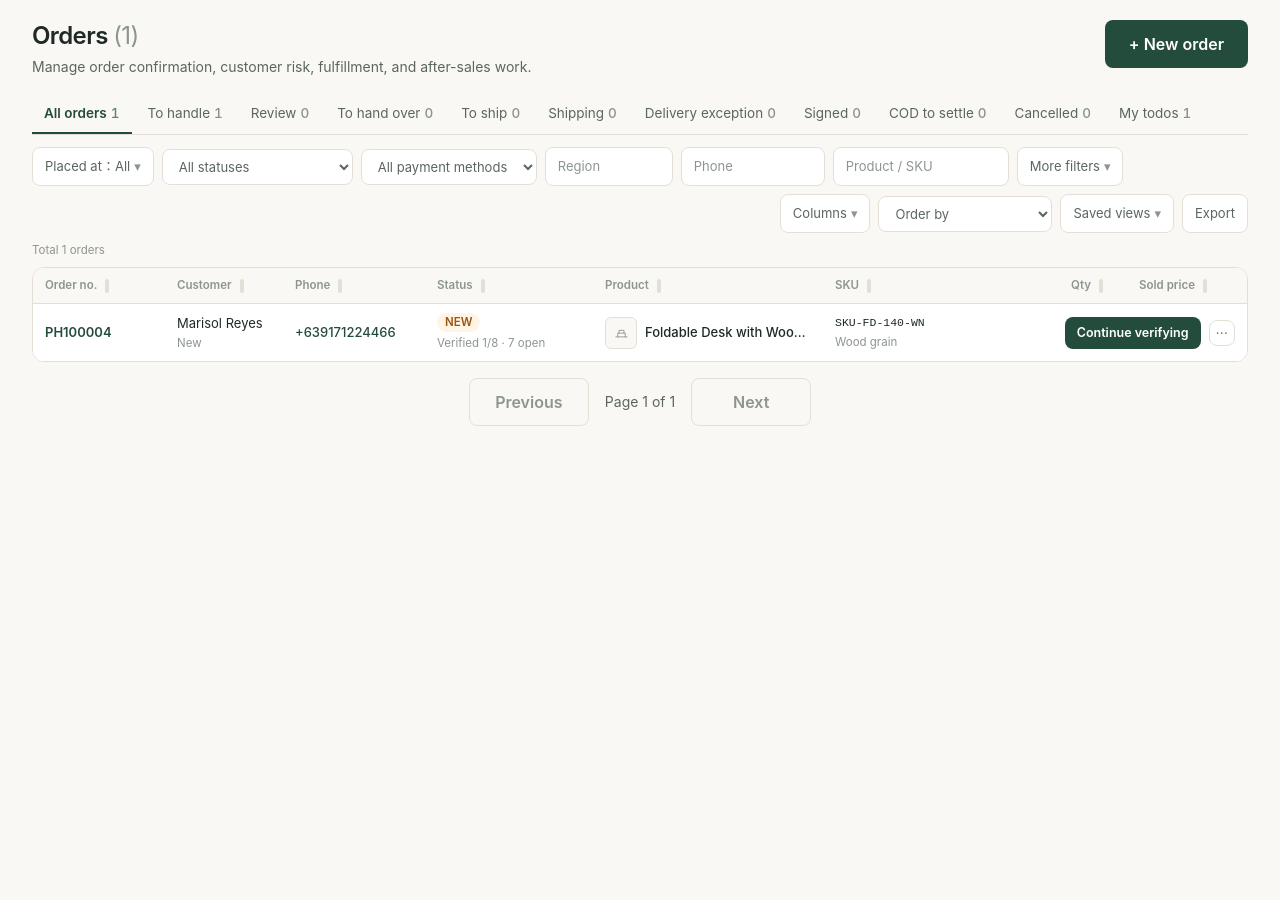
Test case: the order workbench list › opens the customer history from the phone number
This screenshot has width=1280, height=900.
Click the button "+639171224466".
click(345, 333)  # box top-left (295, 322), bottom-right (396, 343)
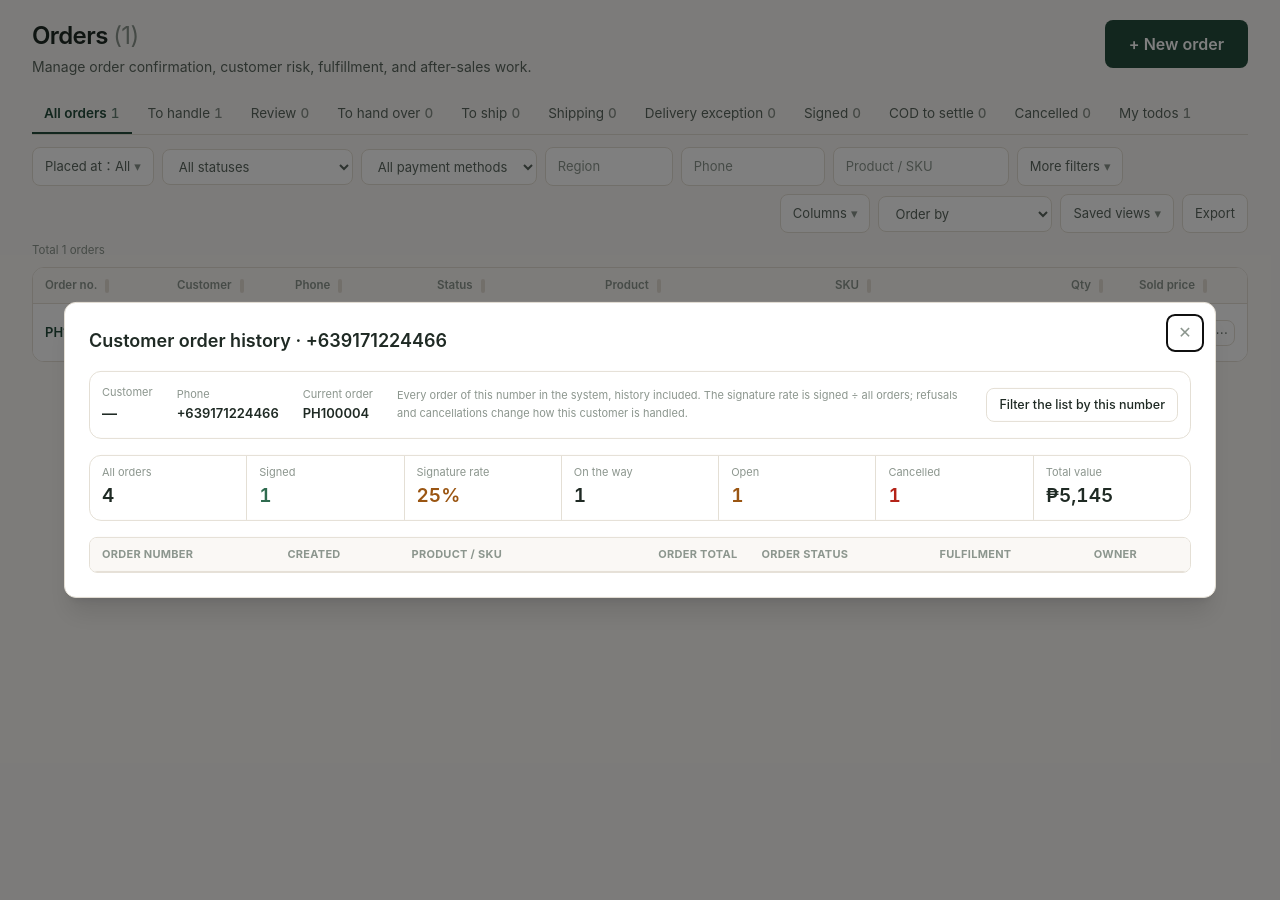
Result: the heading "Customer order history · +639171224466" is shown at top-left (89, 330), bottom-right (447, 351)
Result: the text "25%" is shown at top-left (417, 484), bottom-right (460, 507)
